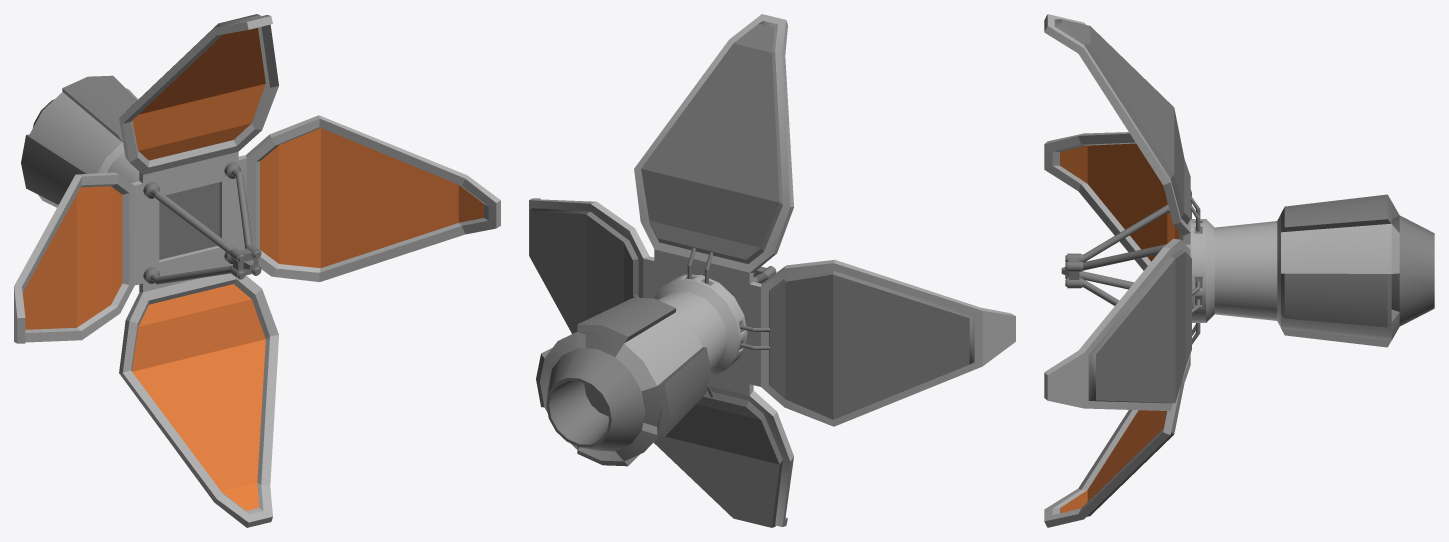
File: Satellite.fbx
3 views of the same model, side by side, from view 1: azimuth 30°, elevation 25°; view 2: azimuth 150°, elevation 25°; view 3: azimuth 270°, elevation 25° (orthographic).
Visible parts, largest first — view 1: Satellite; view 2: Satellite; view 3: Satellite.
Part boxes in pixels (box(x1,y1,x2,y2)): Satellite: box(14, 14, 500, 527); Satellite: box(529, 14, 1015, 527); Satellite: box(1044, 14, 1434, 527).
Bounding box in the file's own units: 2.07 × 2.07 × 1.46.
